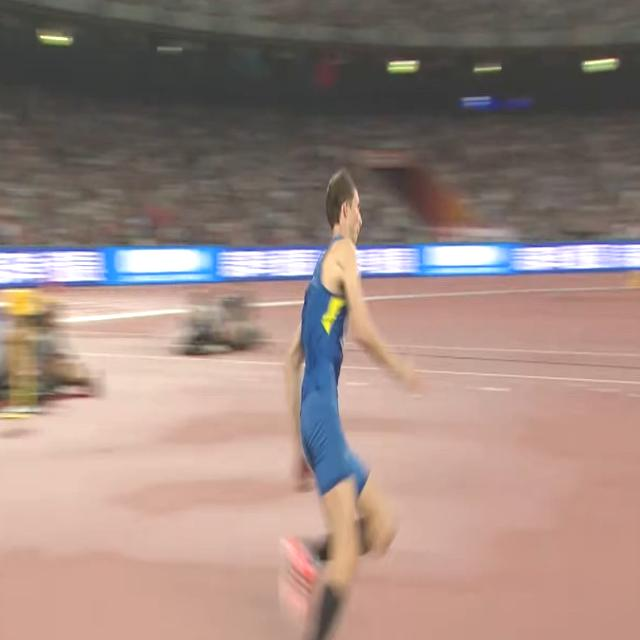run: (277, 164, 428, 640)
